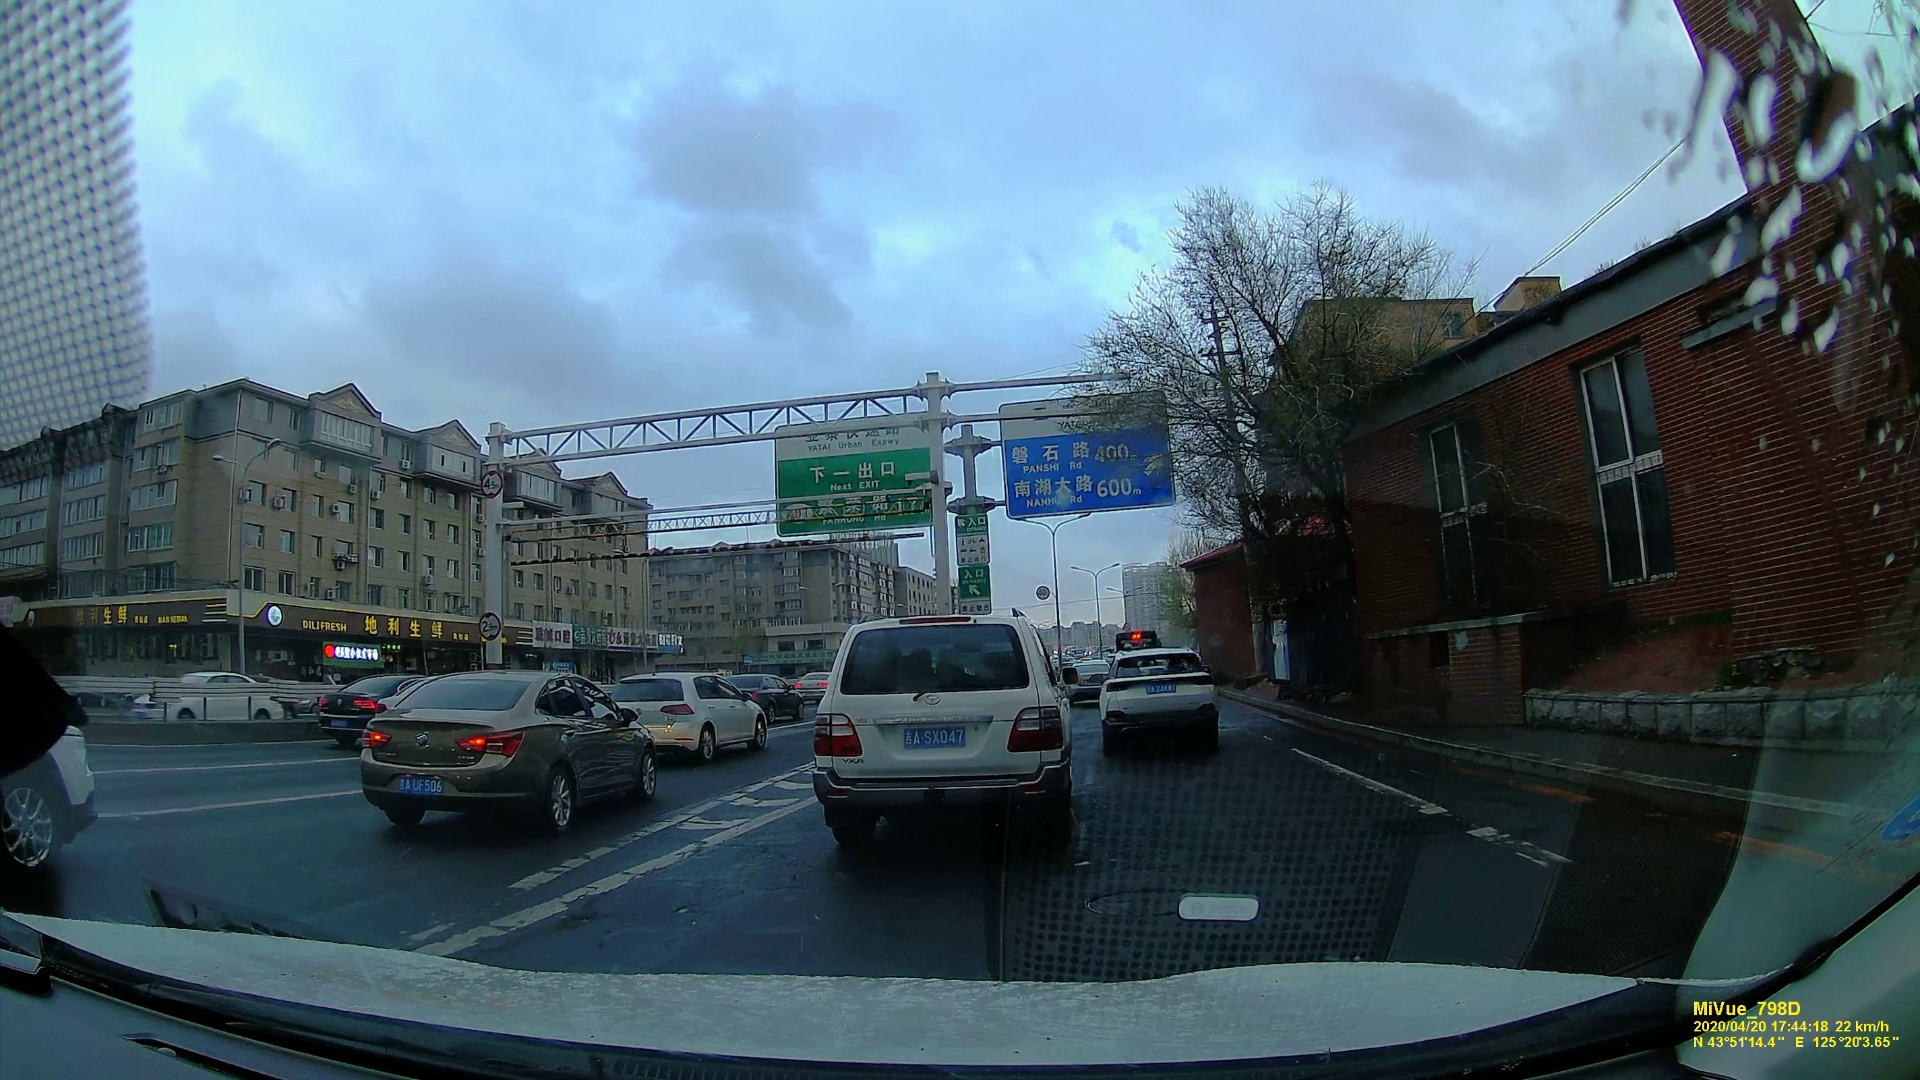traffic_sign: (996, 396, 1172, 510), (774, 418, 936, 527)
vehicle: (814, 607, 1079, 823), (353, 667, 659, 836), (0, 658, 103, 864), (611, 670, 762, 761), (1101, 640, 1221, 745), (138, 669, 287, 729), (315, 676, 404, 742)
